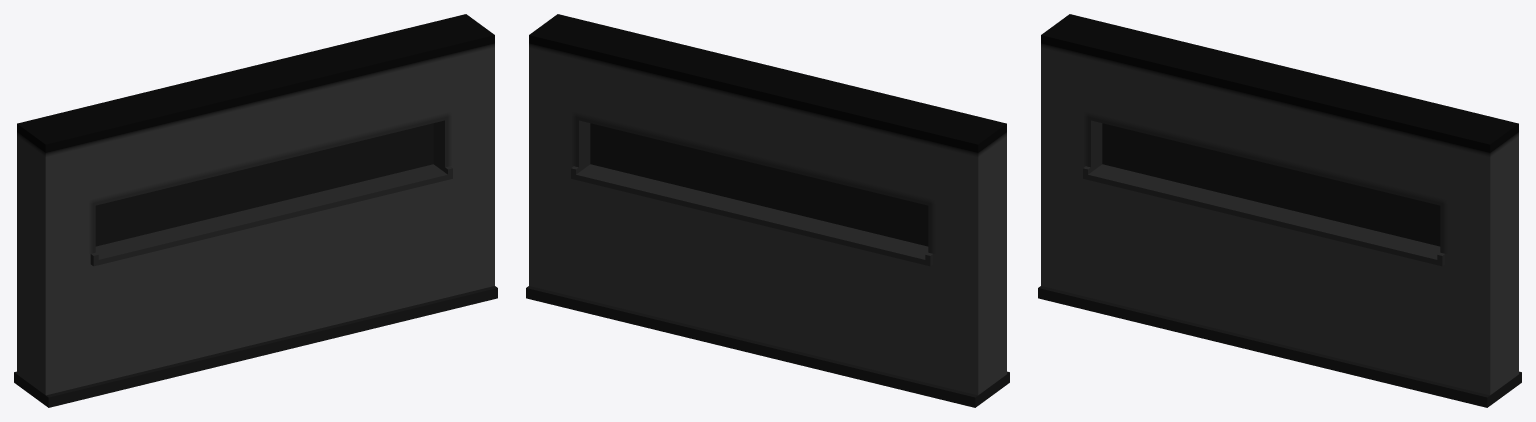
The model's file is Wall-Stone-Model-09.fbx.
3 renders of one model, left to right at view 1: azimuth 30°, elevation 25°; view 2: azimuth 150°, elevation 25°; view 3: azimuth 330°, elevation 25°, orthographic.
Parts seen in each view (by area): view 1: Wall-Stone-Model-09; view 2: Wall-Stone-Model-09; view 3: Wall-Stone-Model-09.
Part boxes in pixels (<box>): Wall-Stone-Model-09: <box>14,14,497,407</box>; Wall-Stone-Model-09: <box>526,14,1009,407</box>; Wall-Stone-Model-09: <box>1038,14,1521,407</box>.
Bounding box in the file's own units: 90 × 50 × 12.
1 material, 1 textured.
